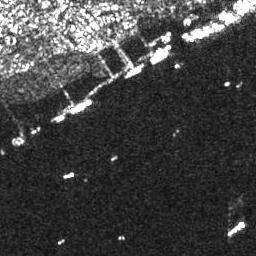ship: (71, 98, 92, 115), (149, 47, 170, 64), (226, 220, 246, 237), (126, 62, 144, 77), (55, 115, 66, 123), (63, 172, 74, 179), (57, 237, 66, 245), (110, 154, 119, 161)
